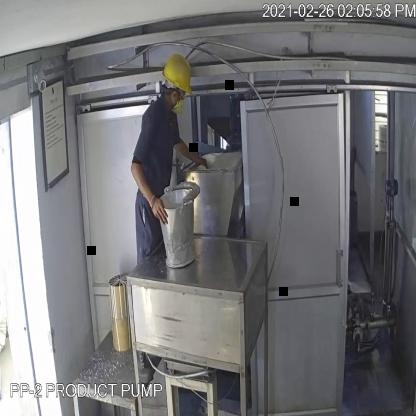helmet: (161, 51, 195, 99)
